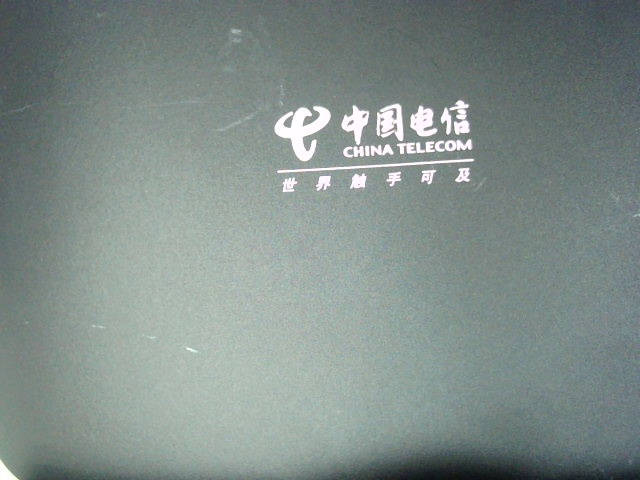AB_ChinaTelecom: (261, 101, 505, 195)
